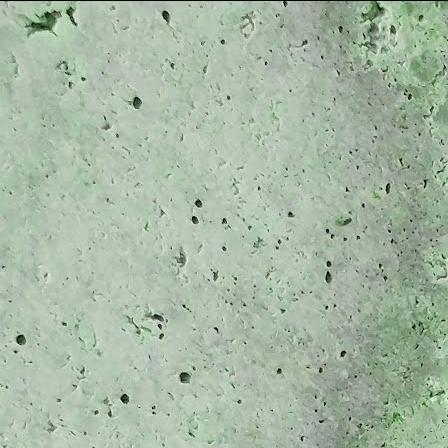hole: (13, 332, 28, 346)
spalling: (354, 1, 391, 58), (19, 4, 68, 39)
